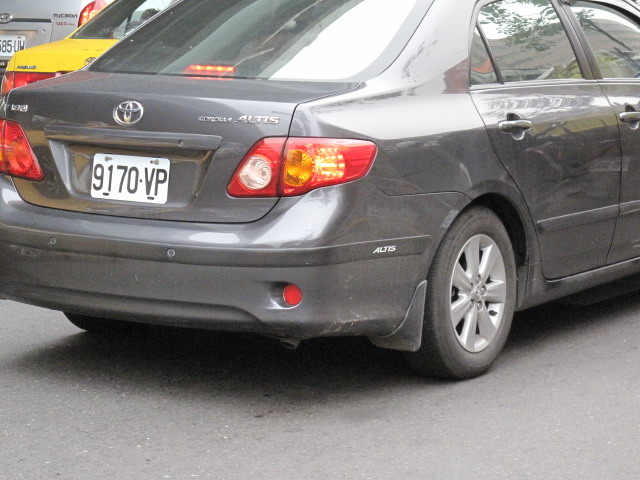plate: (89, 150, 171, 206), (0, 36, 27, 58)
